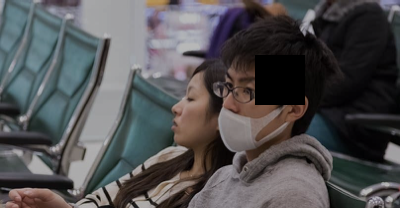with_mask: (215, 70, 281, 151)
without_mask: (170, 82, 212, 145)
